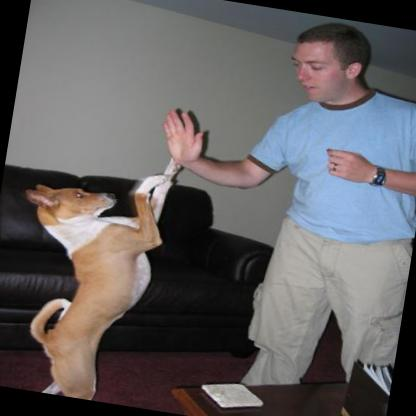basenji: (0, 135, 181, 405)
